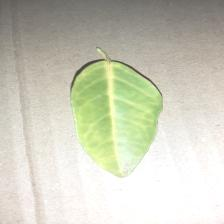greening: (69, 47, 166, 180)
